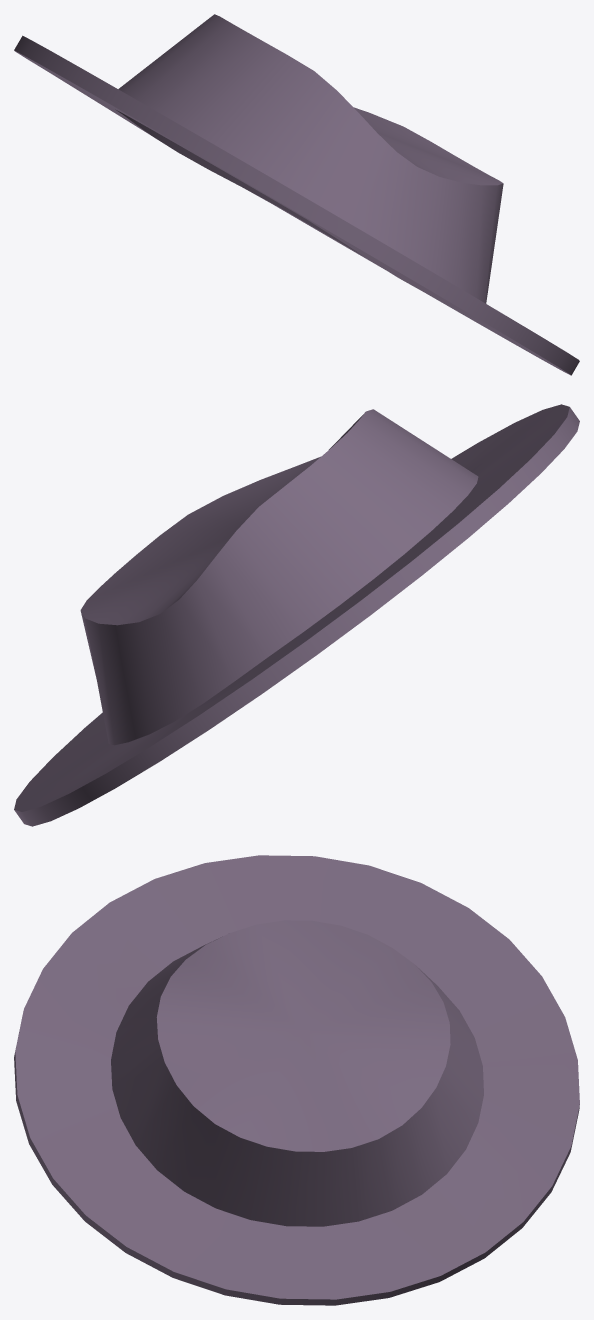
Rendered from Attach_Hat_Cowboy.fbx.
The picture shows the model from 3 angles, top to bottom: view 1: azimuth 30°, elevation 25°; view 2: azimuth 150°, elevation 25°; view 3: azimuth 270°, elevation 25°; orthographic projection. The views are drawn at different scales.
Visible parts, largest first — view 1: Attach_Hat_Cowboy; view 2: Attach_Hat_Cowboy; view 3: Attach_Hat_Cowboy.
Part boxes in pixels (box(x1,y1,x2,y2)): Attach_Hat_Cowboy: box(14, 14, 579, 375); Attach_Hat_Cowboy: box(14, 404, 579, 826); Attach_Hat_Cowboy: box(14, 855, 579, 1305).
Bounding box in the file's own units: 0.7534 × 1.08 × 0.6132.
